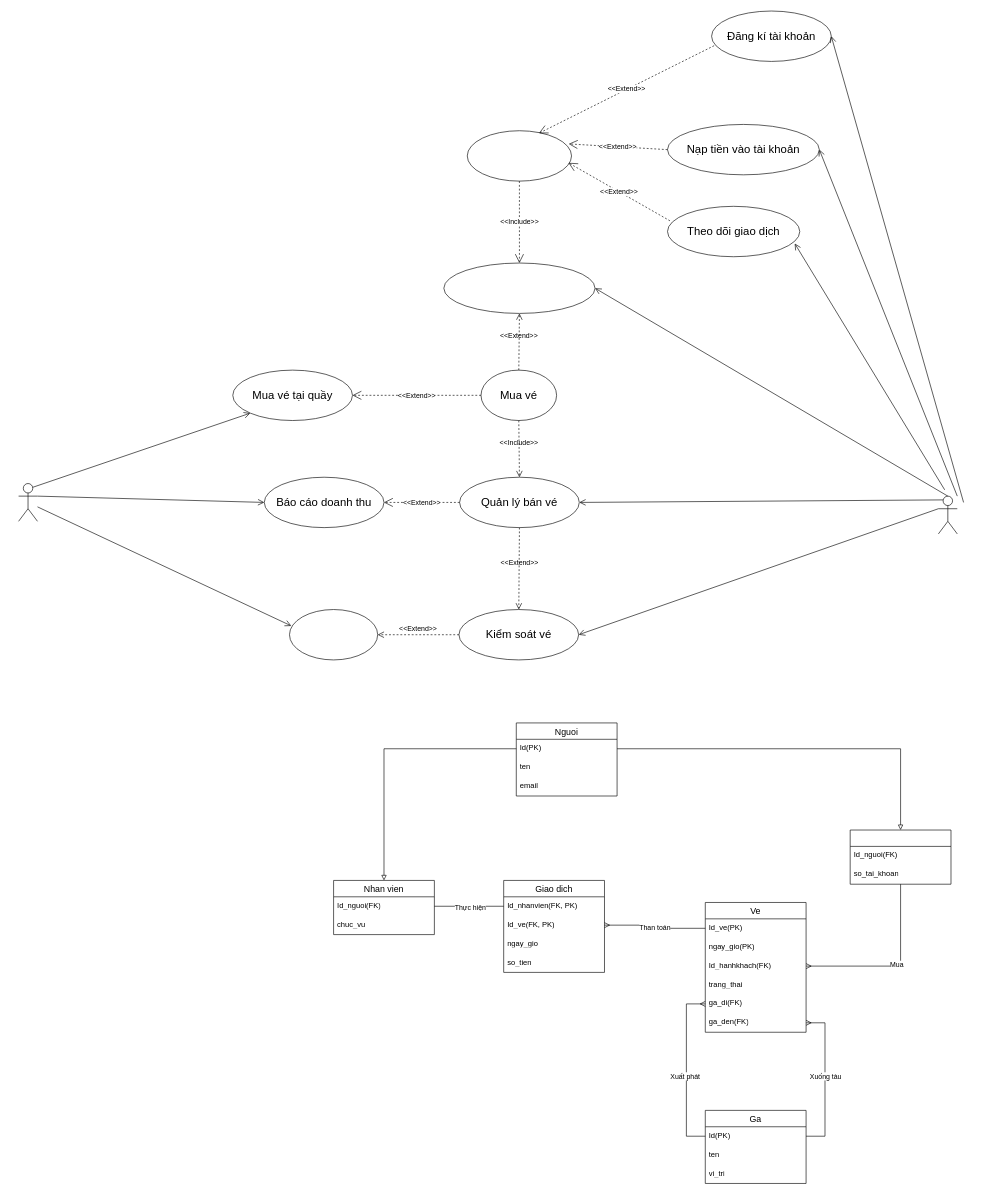
The diagram is 981 pixels wide and 1196 high, and some of its shapes have lost their labels. Here are the shapes that lost their labels. From the top down, the box of each, then its label:
(467, 130, 572, 181): Tài khoản
(443, 262, 595, 313): Mua vé qua ứng dụng
(18, 483, 37, 521): Nhân viên
(938, 495, 957, 534): Hành khách
(289, 609, 378, 660): Soát vé
(850, 829, 951, 884): Hanh khach
